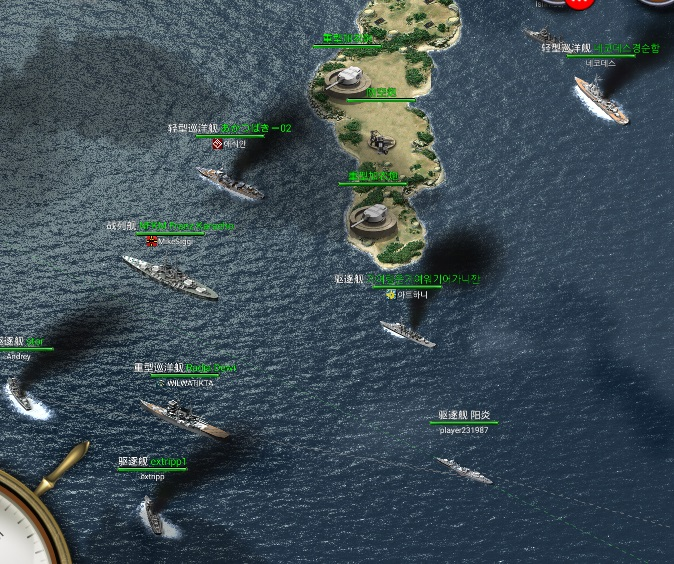ship: (117, 249, 222, 303), (136, 398, 230, 441), (573, 75, 632, 126), (194, 161, 263, 202), (377, 318, 437, 352), (433, 455, 495, 487), (139, 494, 166, 540), (3, 376, 36, 413)
